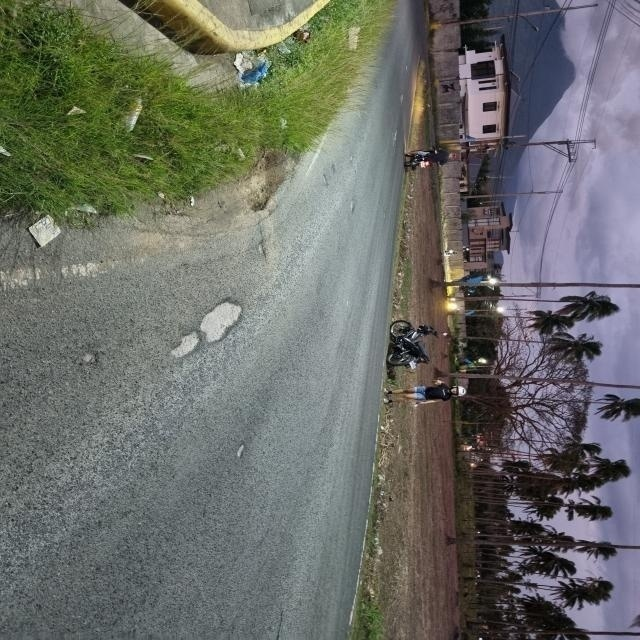pothole: (149, 282, 278, 366)
